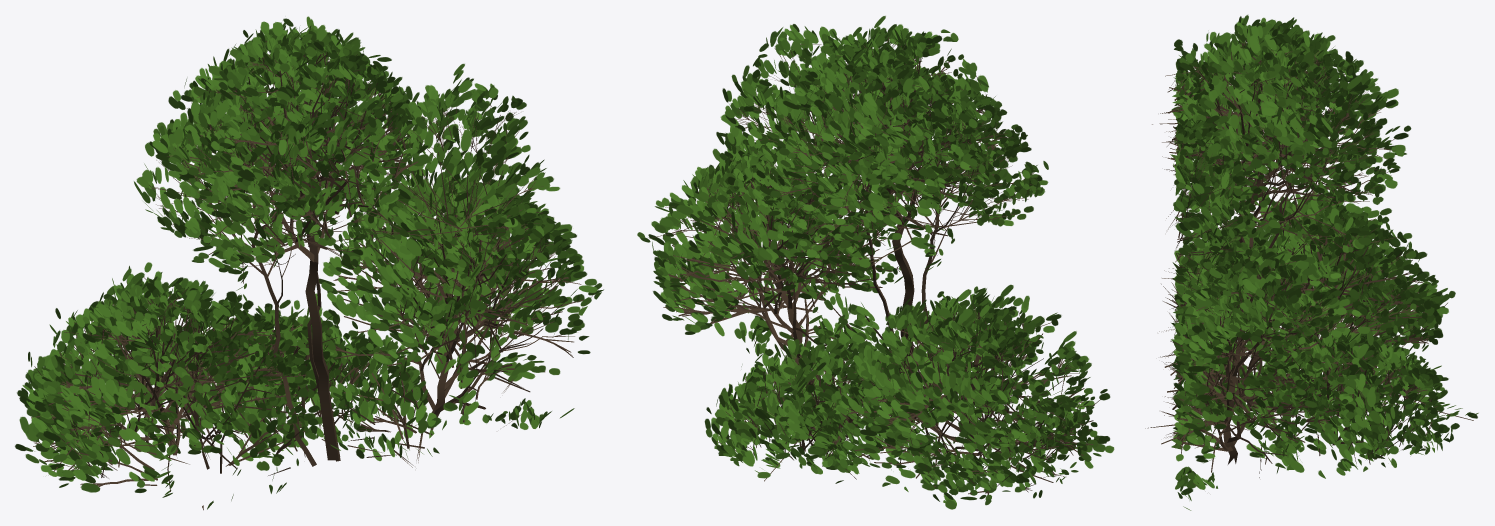
The picture shows the model from 3 angles, left to right: view 1: azimuth 30°, elevation 25°; view 2: azimuth 150°, elevation 25°; view 3: azimuth 270°, elevation 25°; orthographic projection. The views are drawn at different scales.
Parts seen in each view (by area): view 1: oak 01.001_trunk_Mat.001_0.445; view 2: oak 01.001_trunk_Mat.001_0.445; view 3: oak 01.001_trunk_Mat.001_0.445.
Part boxes in pixels (box(x1,y1,x2,y2)): oak 01.001_trunk_Mat.001_0.445: box(15, 16, 603, 510); oak 01.001_trunk_Mat.001_0.445: box(637, 16, 1114, 509); oak 01.001_trunk_Mat.001_0.445: box(1145, 15, 1478, 510).
Bounding box in the file's own units: 4.94 × 4.06 × 3.04.
Materials: 2 (1 with a texture image).
